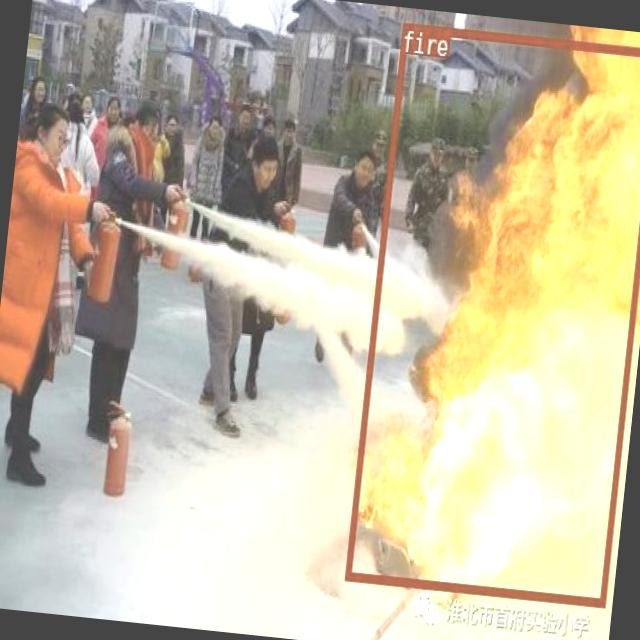fire: (343, 21, 640, 606)
